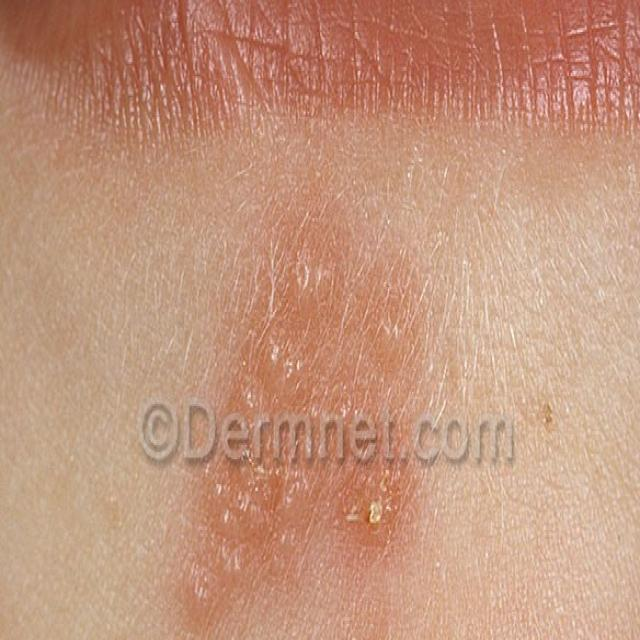Viral Infections: (151, 186, 464, 640)
